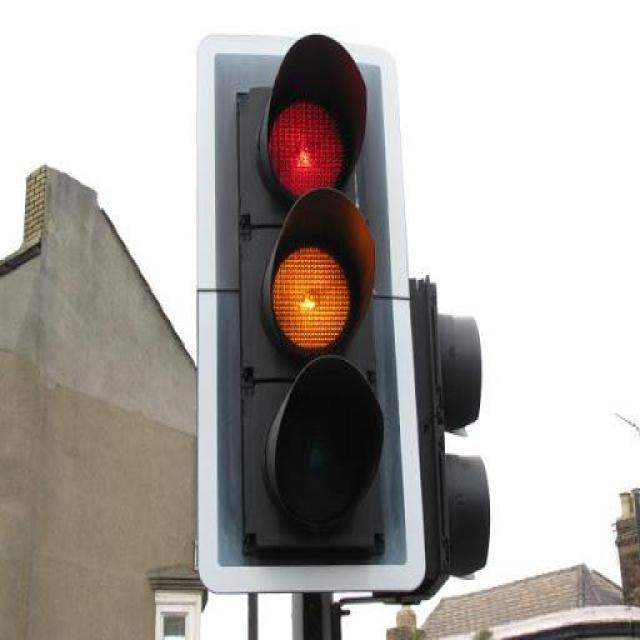yellow_light: (239, 37, 384, 564)
